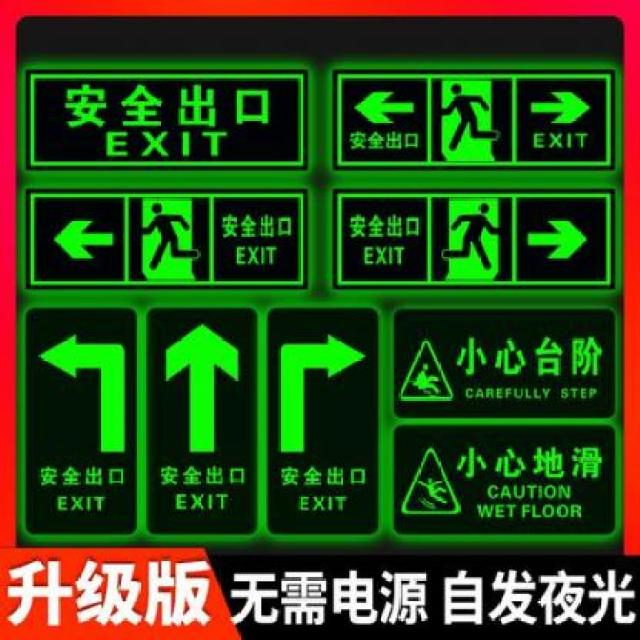exit_sign: (17, 62, 321, 183), (15, 190, 318, 288), (323, 189, 616, 290), (337, 71, 621, 175), (385, 302, 613, 416), (388, 428, 617, 534)
